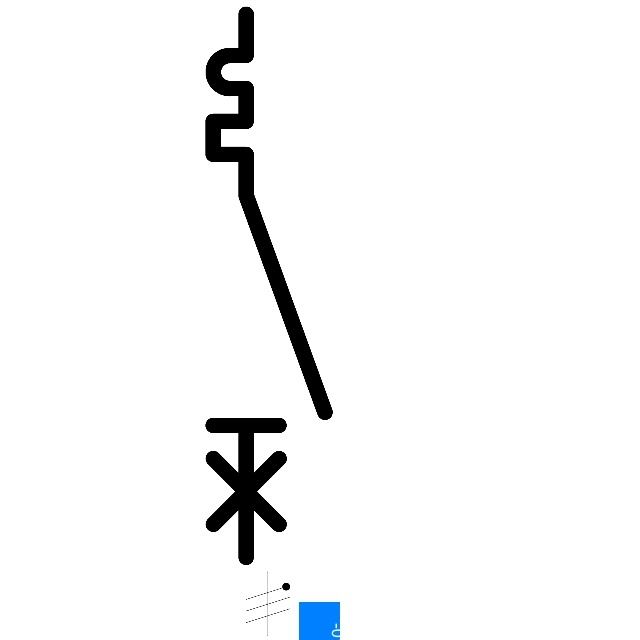interruptor_termomagnetico: (199, 0, 339, 571)
